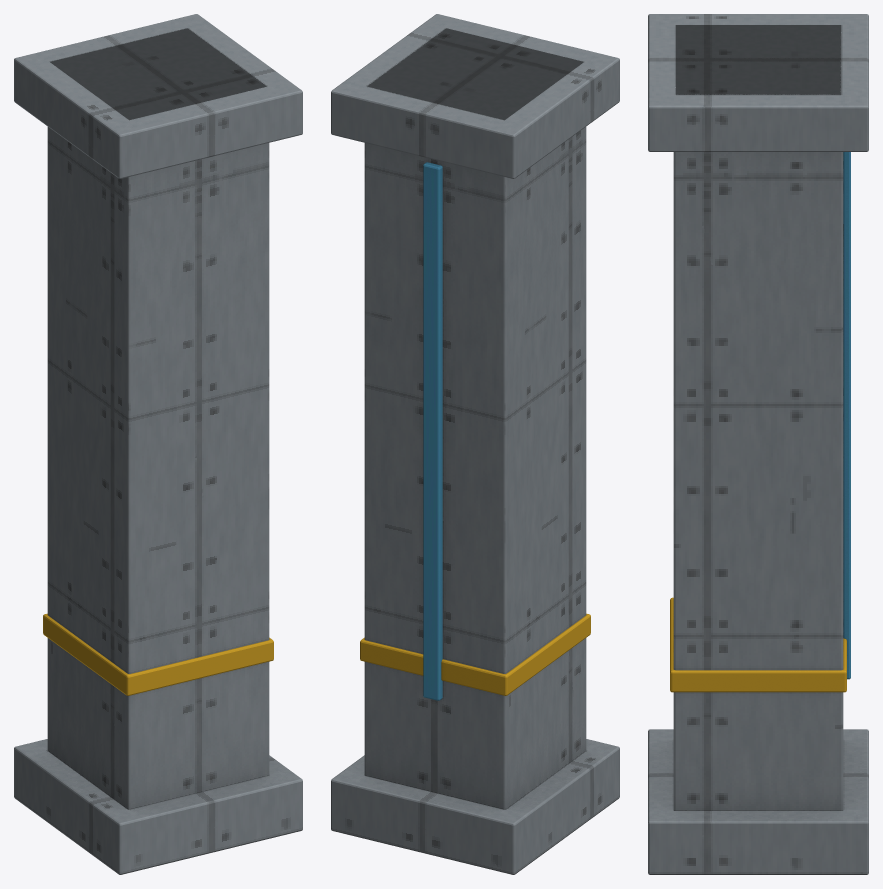
The model's file is base_column.glb.
3 views of the same model, side by side, from view 1: azimuth 30°, elevation 25°; view 2: azimuth 150°, elevation 25°; view 3: azimuth 270°, elevation 25° (orthographic). The views are drawn at different scales.
Visible parts, largest first — view 1: base_column; view 2: base_column; view 3: base_column.
Part boxes in pixels (left/top/right/bottom): base_column: left=14, top=14, right=302, bottom=874; base_column: left=331, top=14, right=619, bottom=874; base_column: left=648, top=14, right=868, bottom=874.
Bounding box in the file's own units: 1.3 × 5 × 1.3.
Materials: 3 (3 with a texture image).
